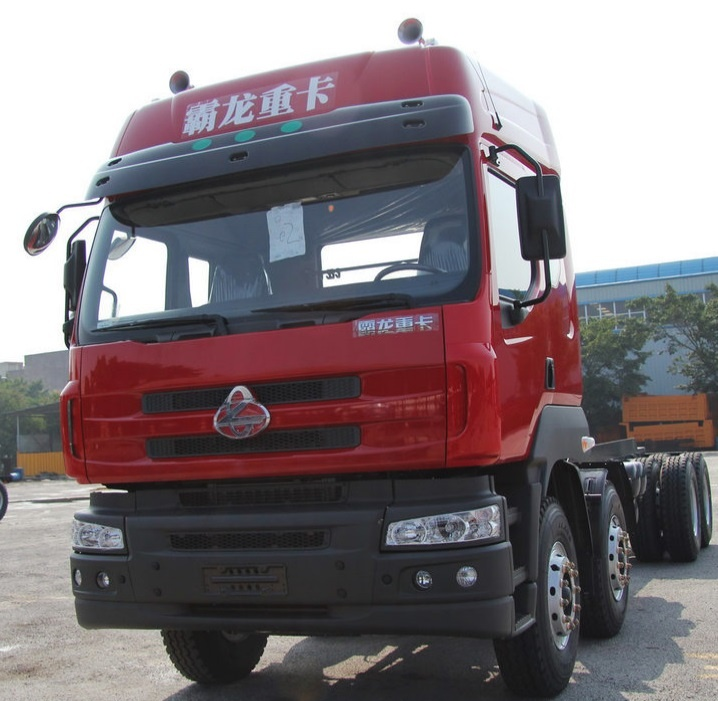heavy truck: (31, 61, 687, 680)
